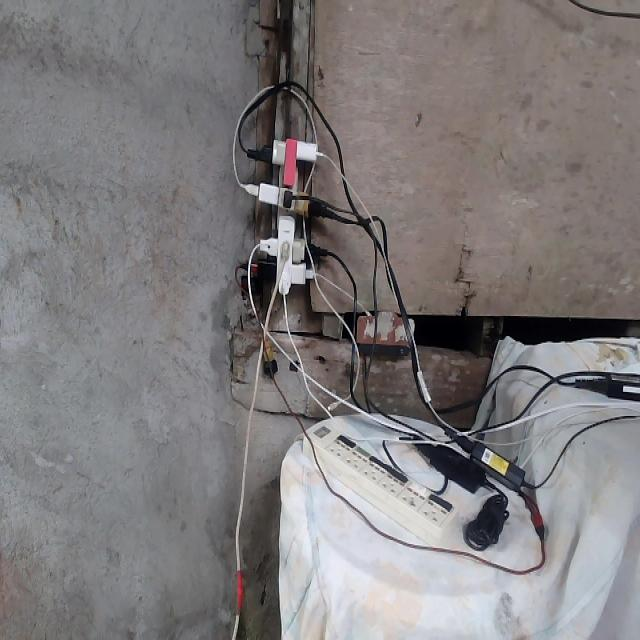-: (238, 139, 334, 296)
